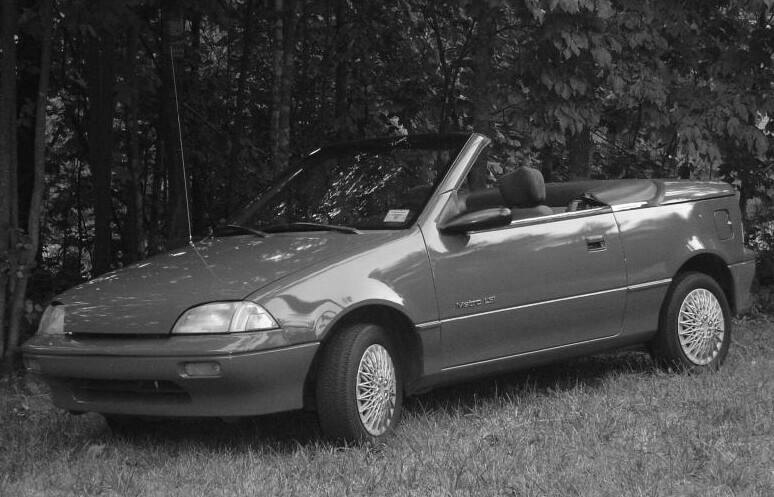car: (20, 131, 758, 447)
